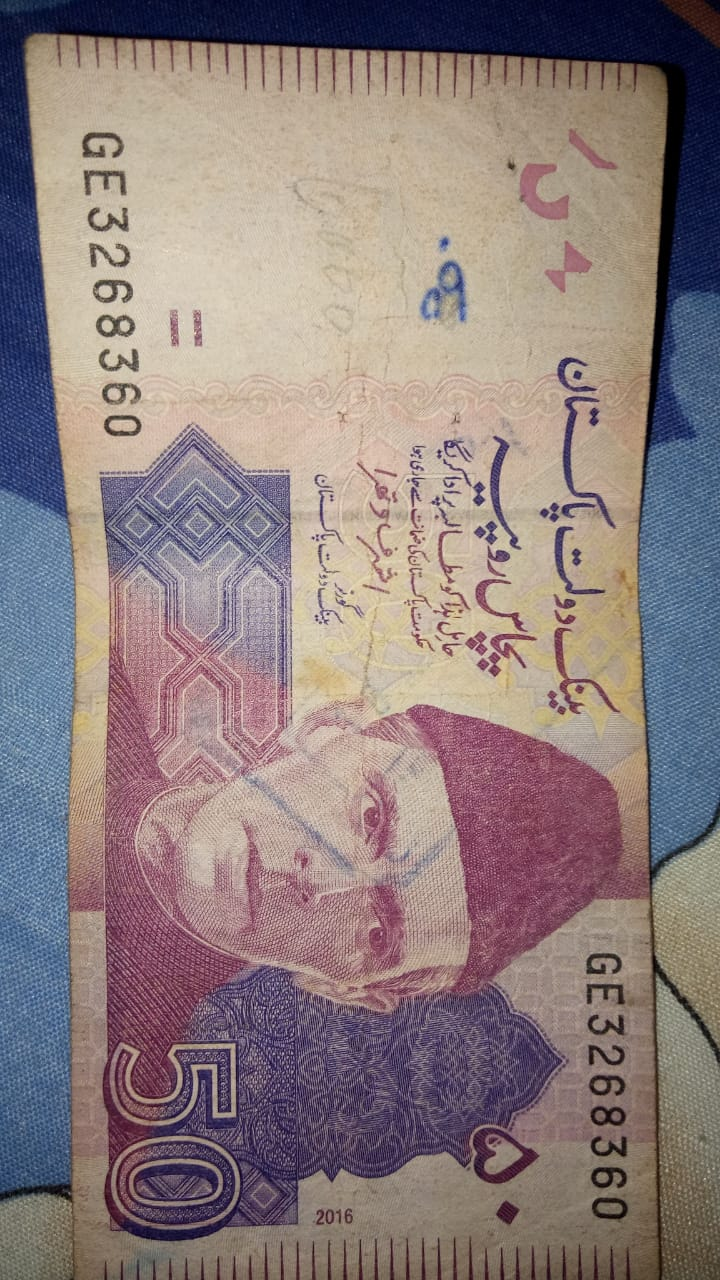50 rupee: (1, 27, 695, 1266)
